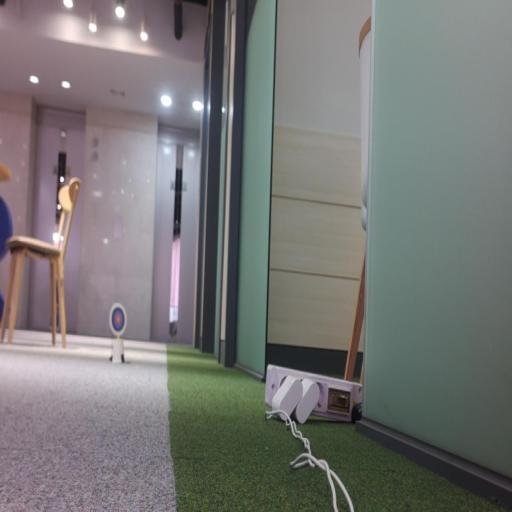target: (110, 303, 126, 337)
